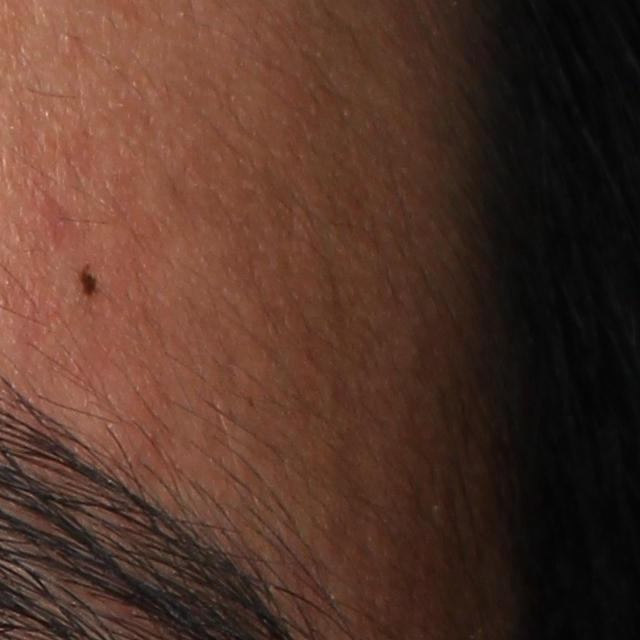nevus: (77, 264, 107, 303)
